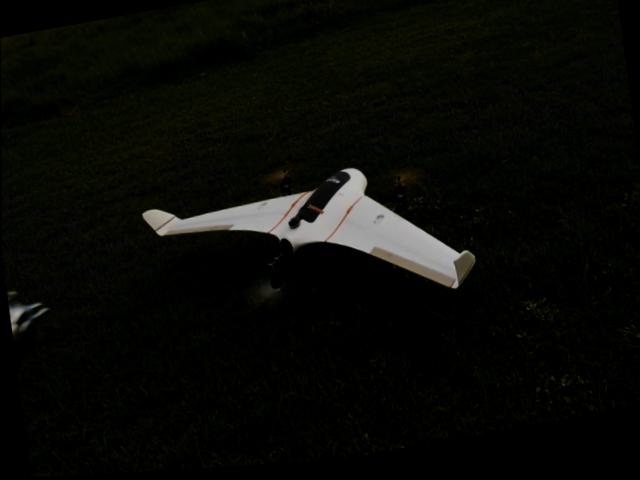plane: (140, 153, 478, 348)
